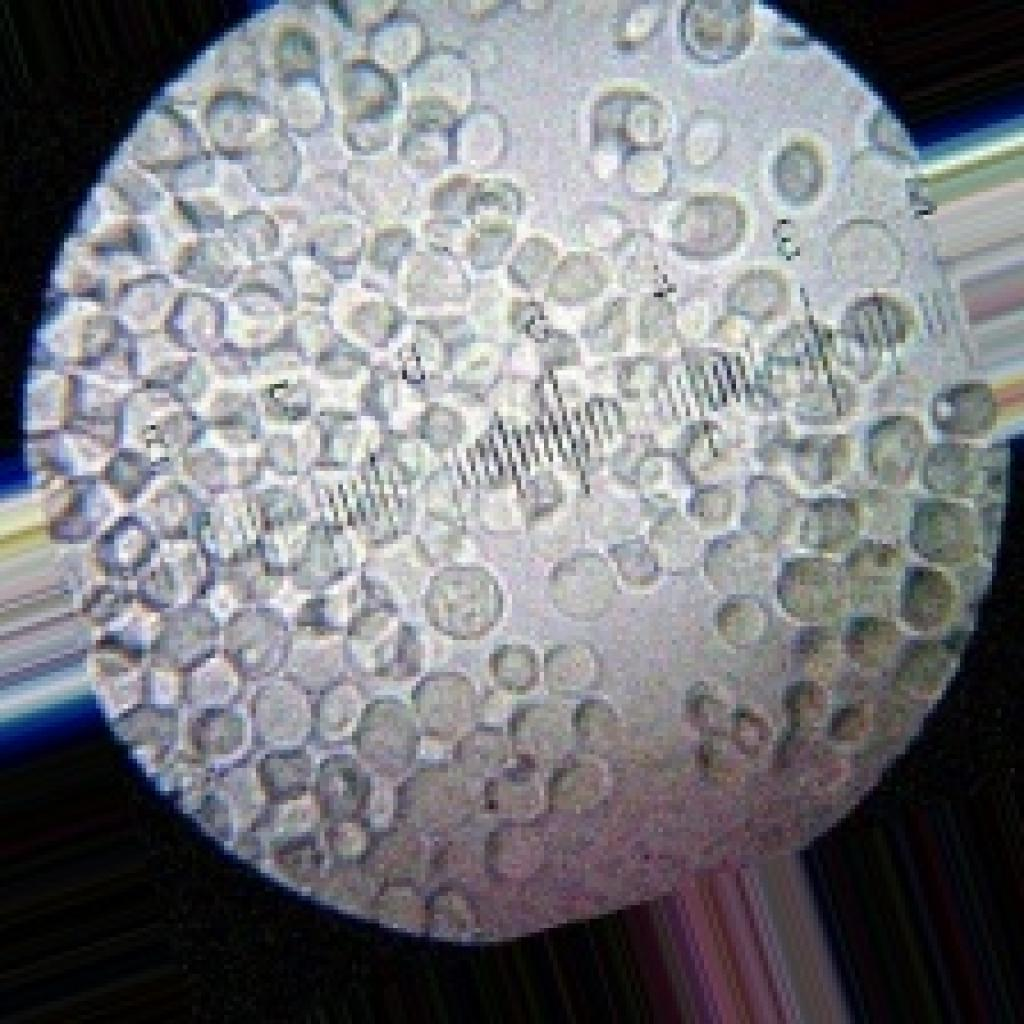Yeast: (18, 0, 1010, 946)
